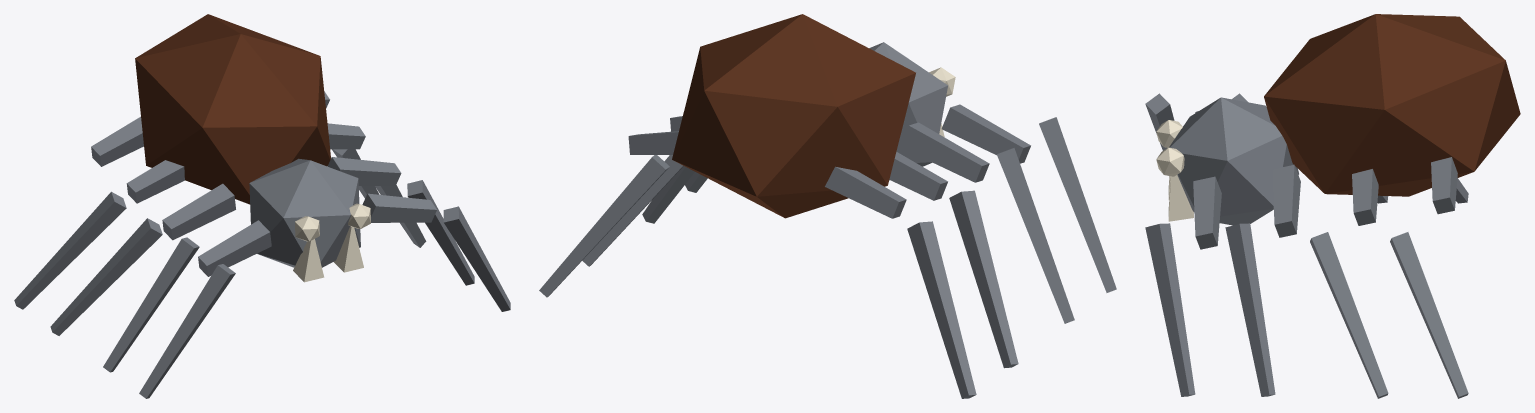
The model's file is npcpose_spider_attack_10.glb.
3 views of the same model, side by side, from view 1: azimuth 30°, elevation 25°; view 2: azimuth 150°, elevation 25°; view 3: azimuth 270°, elevation 25° (orthographic). The views are drawn at different scales.
Parts seen in each view (by area): view 1: npcpose; view 2: npcpose; view 3: npcpose.
Boxes of the visible parts, x1,y1,x2,y2 form: npcpose: (14,14,510,398); npcpose: (539,14,1116,398); npcpose: (1145,14,1520,398).
Bounding box in the file's own units: 1.32 × 0.8704 × 1.03.
